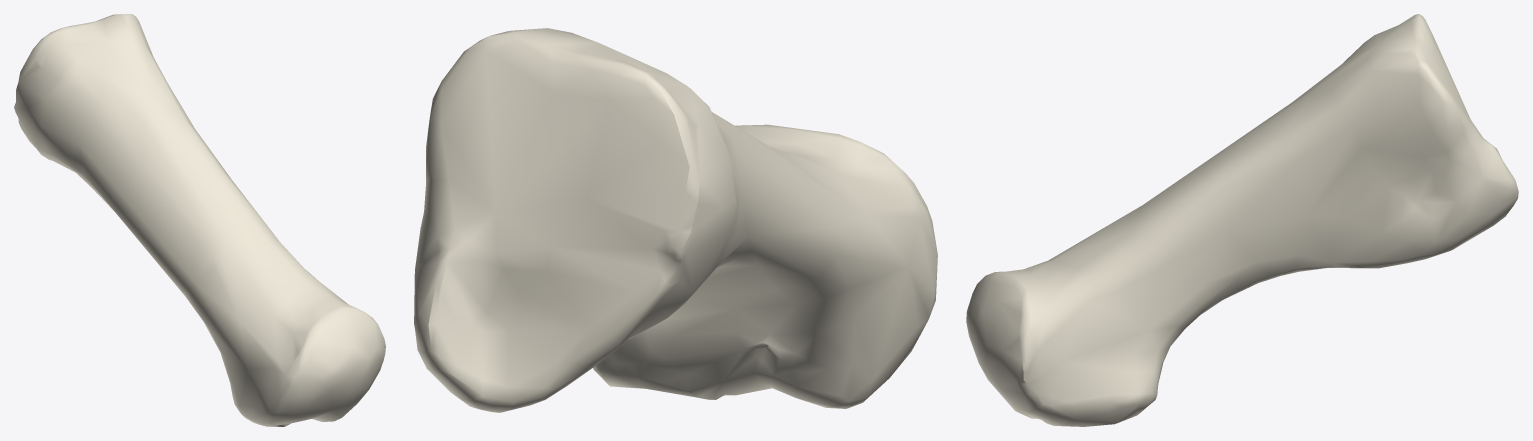
File: fma24508_fj3241.glb
3 renders of one model, left to right at view 1: azimuth 30°, elevation 25°; view 2: azimuth 150°, elevation 25°; view 3: azimuth 270°, elevation 25°, orthographic. The views are drawn at different scales.
Parts seen in each view (by area): view 1: FMA24508_FJ3241; view 2: FMA24508_FJ3241; view 3: FMA24508_FJ3241.
Part boxes in pixels (x1,y1,x2,y2): FMA24508_FJ3241: (14,14,385,426); FMA24508_FJ3241: (414,28,937,412); FMA24508_FJ3241: (966,14,1518,426).
Size of the model in its own units: 0.0295 by 0.0432 by 0.0623.
